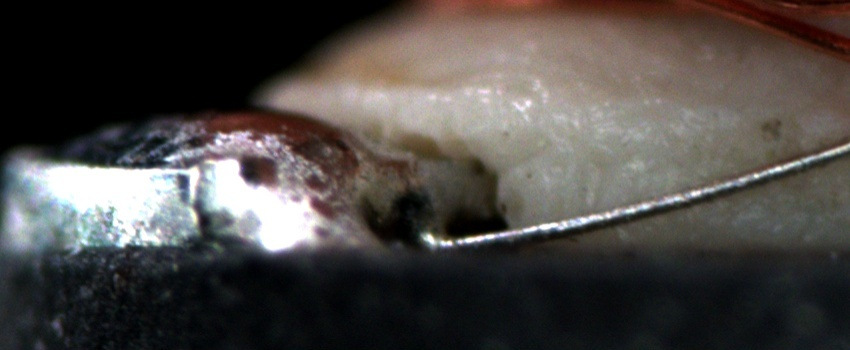DL: (547, 82, 850, 146)
TS: (432, 144, 850, 253)
